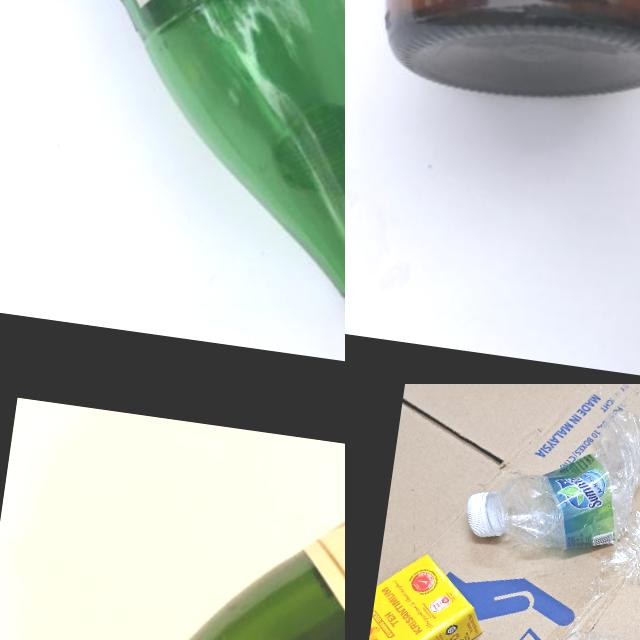caixinha: (355, 548, 489, 640)
garrafa de vidro: (0, 0, 345, 378), (0, 398, 345, 640), (364, 0, 640, 115)
garrafa plástica: (462, 385, 640, 567), (545, 507, 640, 640)
papelão: (345, 384, 640, 640)
tampa plástica: (464, 488, 510, 542)
